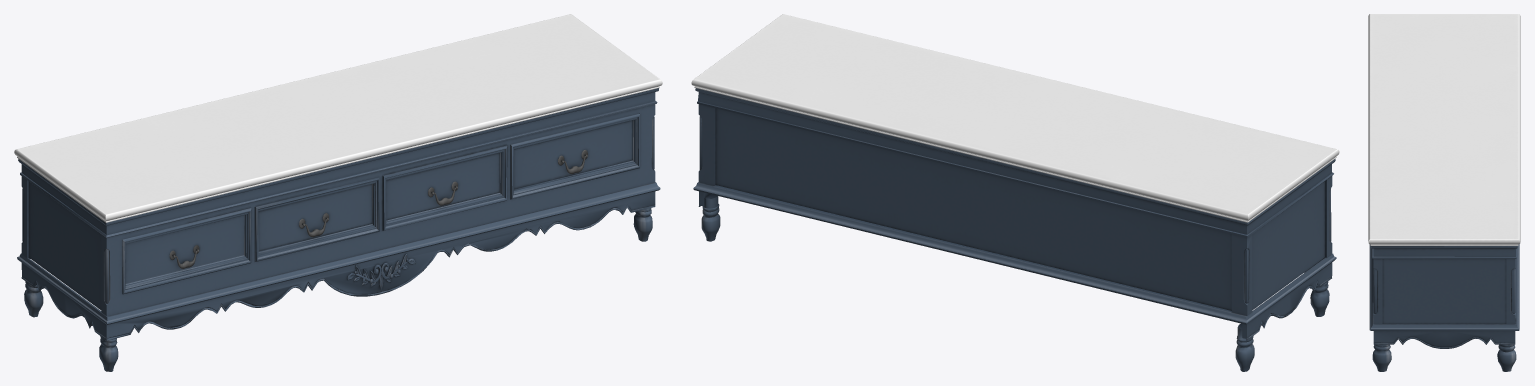
The model's file is raw_model.obj.
The picture shows the model from 3 angles, left to right: view 1: azimuth 30°, elevation 25°; view 2: azimuth 150°, elevation 25°; view 3: azimuth 270°, elevation 25°; orthographic projection. The views are drawn at different scales.
Parts seen in each view (by area): view 1: solid_002, solid_001, solid_003; view 2: solid_002, solid_001; view 3: solid_001, solid_002.
Part boxes in pixels (x1,y1,x2,y2): solid_002: (17,88,660,371); solid_001: (14,14,662,222); solid_003: (169,150,587,268); solid_002: (693,88,1336,371); solid_001: (691,14,1339,222); solid_001: (1368,14,1520,245); solid_002: (1369,244,1519,371).
Size of the model in its own units: 1.72 by 0.4811 by 0.4891.
1 material, 1 textured.
